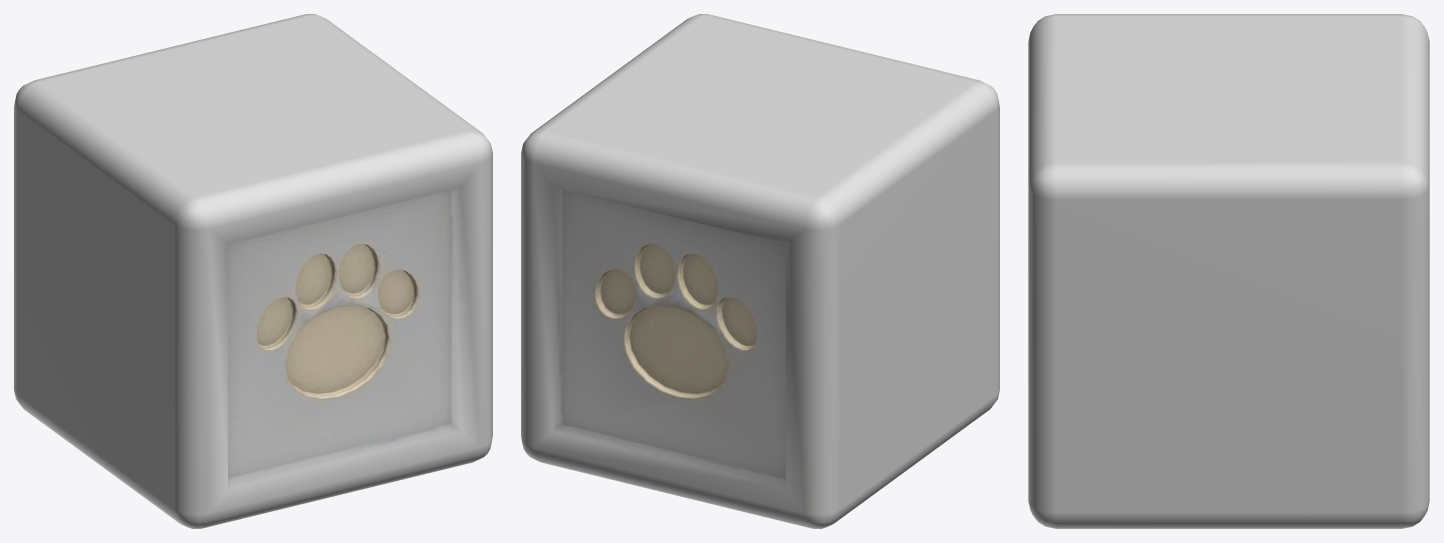
The model's file is kup1.glb.
3 renders of one model, left to right at view 1: azimuth 30°, elevation 25°; view 2: azimuth 150°, elevation 25°; view 3: azimuth 270°, elevation 25°, orthographic. The views are drawn at different scales.
Visible parts, largest first — view 1: blok; view 2: blok; view 3: blok.
Boxes of the visible parts, box(x1,y1,x2,y2) form: blok: box(14, 14, 492, 528); blok: box(521, 14, 999, 528); blok: box(1028, 14, 1429, 528).
Bounding box in the file's own units: 1 × 1 × 1.
2 materials, 2 textured.
